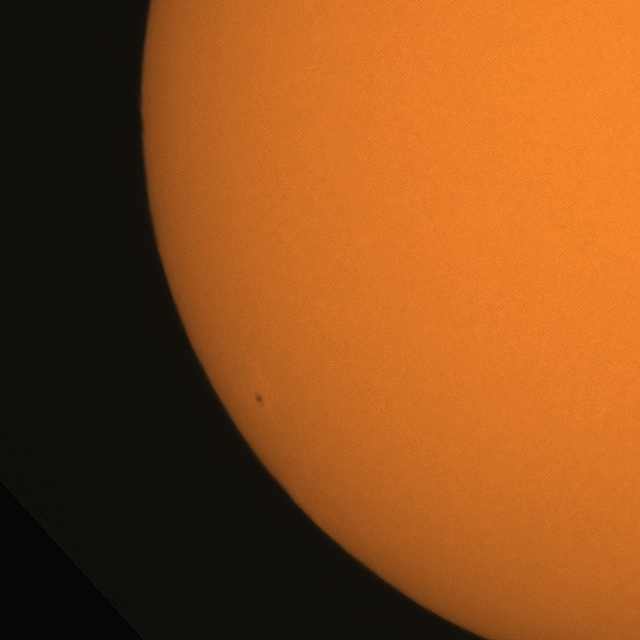sunspot: (253, 390, 264, 405)
